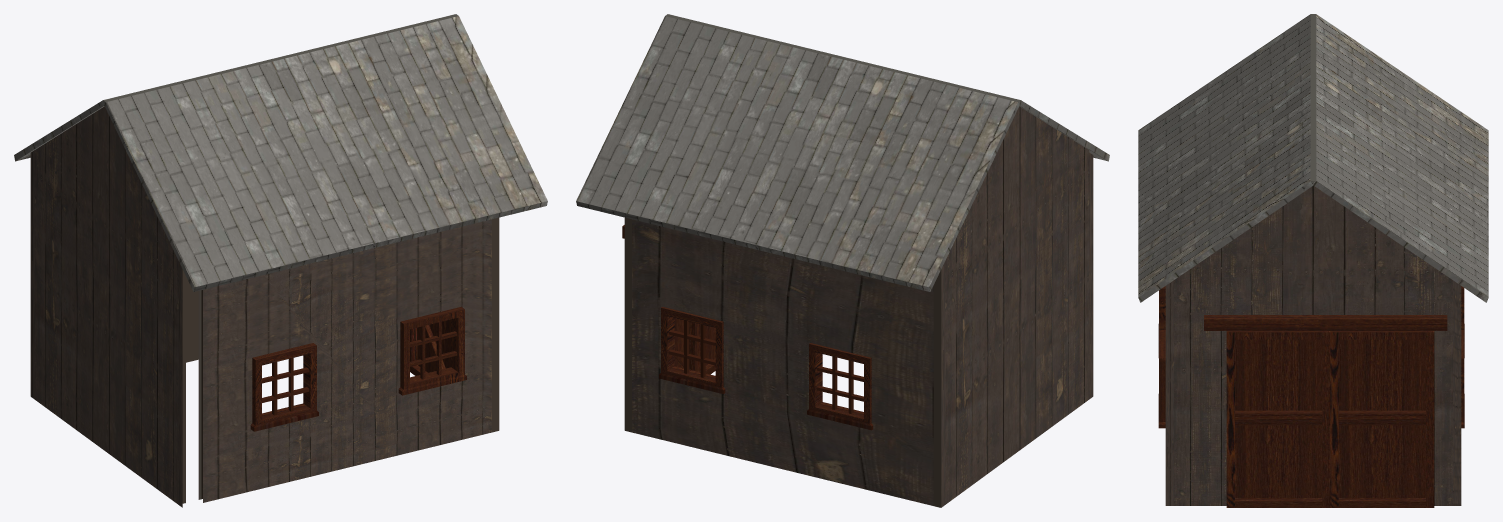
The model's file is SM_Bld_Barn_03.fbx.
3 views of the same model, side by side, from view 1: azimuth 30°, elevation 25°; view 2: azimuth 150°, elevation 25°; view 3: azimuth 270°, elevation 25° (orthographic). The views are drawn at different scales.
Parts seen in each view (by area): view 1: Plane, Side Roof.002, Small Window.002, Small Window, Door; view 2: Plane, Side Roof.002, Small Window.001, Small Window.003, Door.001; view 3: Side Roof.002, Plane, Door, Door.001, Cube.001, Small Window, Small Window.001.
Boxes of the visible parts, box(x1,y1,x2,y2) form: Plane: box(30, 106, 499, 507); Side Roof.002: box(14, 14, 547, 291); Small Window.002: box(250, 343, 318, 431); Small Window: box(398, 306, 466, 395); Door: box(410, 319, 451, 375); Plane: box(624, 106, 1093, 507); Side Roof.002: box(576, 14, 1109, 291); Small Window.001: box(659, 307, 725, 393); Small Window.003: box(807, 343, 873, 430); Door.001: box(674, 318, 699, 371); Side Roof.002: box(1138, 14, 1488, 302); Plane: box(1165, 185, 1461, 505); Door: box(1226, 331, 1330, 507); Door.001: box(1330, 331, 1434, 507); Cube.001: box(1204, 315, 1447, 330); Small Window: box(1158, 330, 1165, 428); Small Window.001: box(1461, 330, 1464, 428).
Size of the model in its own units: 716 by 681 by 635.
